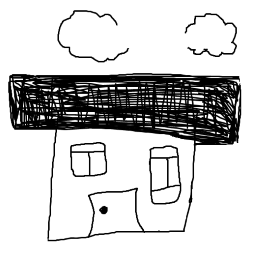closed_window: (146, 135, 186, 207), (64, 135, 114, 185)
clouds: (50, 4, 137, 63), (175, 5, 250, 61)
door: (86, 182, 146, 247)
shaded_roof: (3, 59, 259, 144)
wall: (40, 122, 207, 243)
